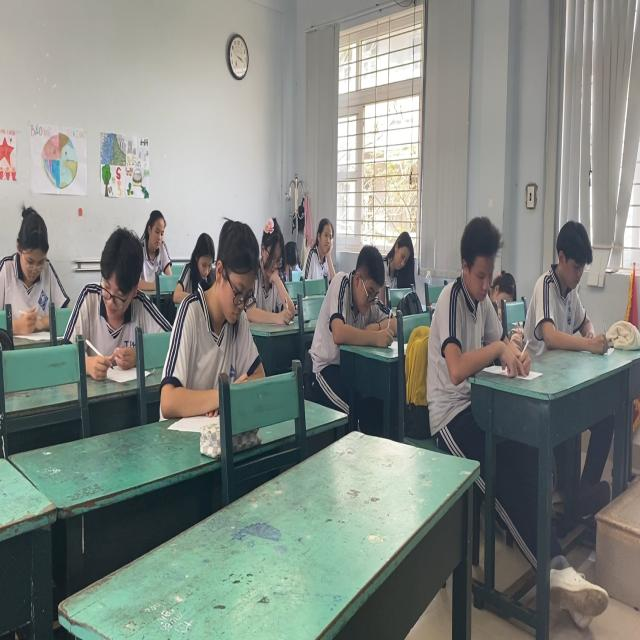not_cheating: (178, 218, 266, 395), (66, 226, 162, 364), (524, 215, 608, 368), (431, 218, 507, 374), (3, 198, 62, 336), (324, 240, 392, 350), (248, 211, 300, 322), (141, 212, 177, 284), (305, 208, 334, 278), (384, 233, 416, 287)
